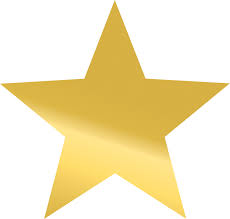dog: (1, 1, 230, 218)
